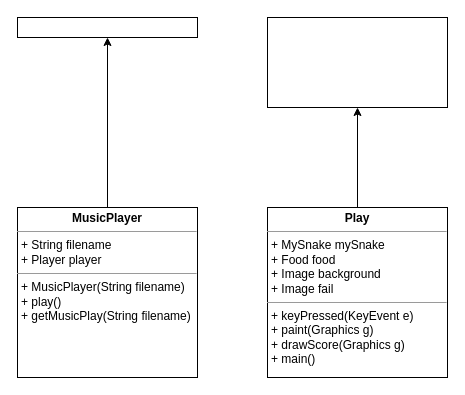
Some shapes in this 465 by 395 pixel diagram are drawn without their labels. Each missing label, with the centre of its shape:
"MyFrame + field: Type + method(): Type" belongs at (x=357, y=62).
"Thread" belongs at (x=107, y=27).
